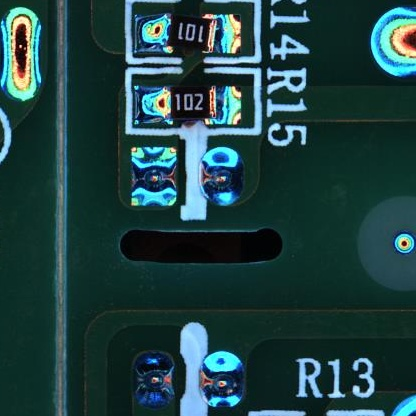spot: (1, 7, 42, 101), (198, 146, 247, 207), (130, 147, 177, 209), (199, 351, 246, 410), (131, 351, 177, 407), (392, 233, 416, 255)
